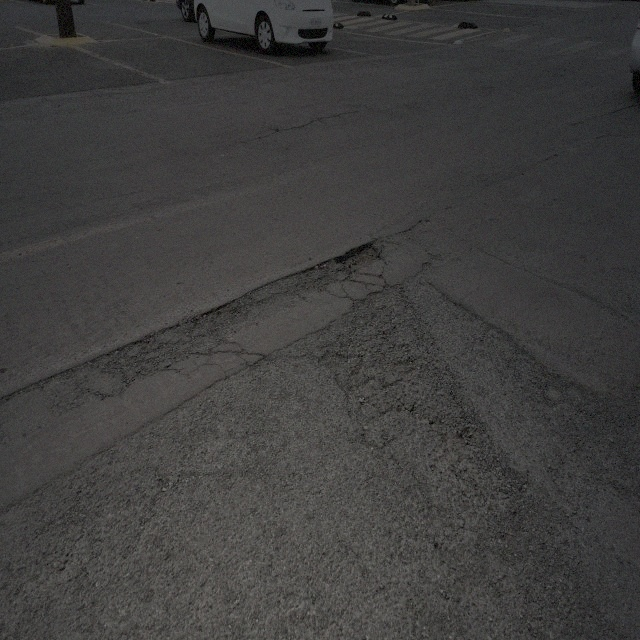pothole: (197, 294, 242, 342), (338, 232, 382, 281)
